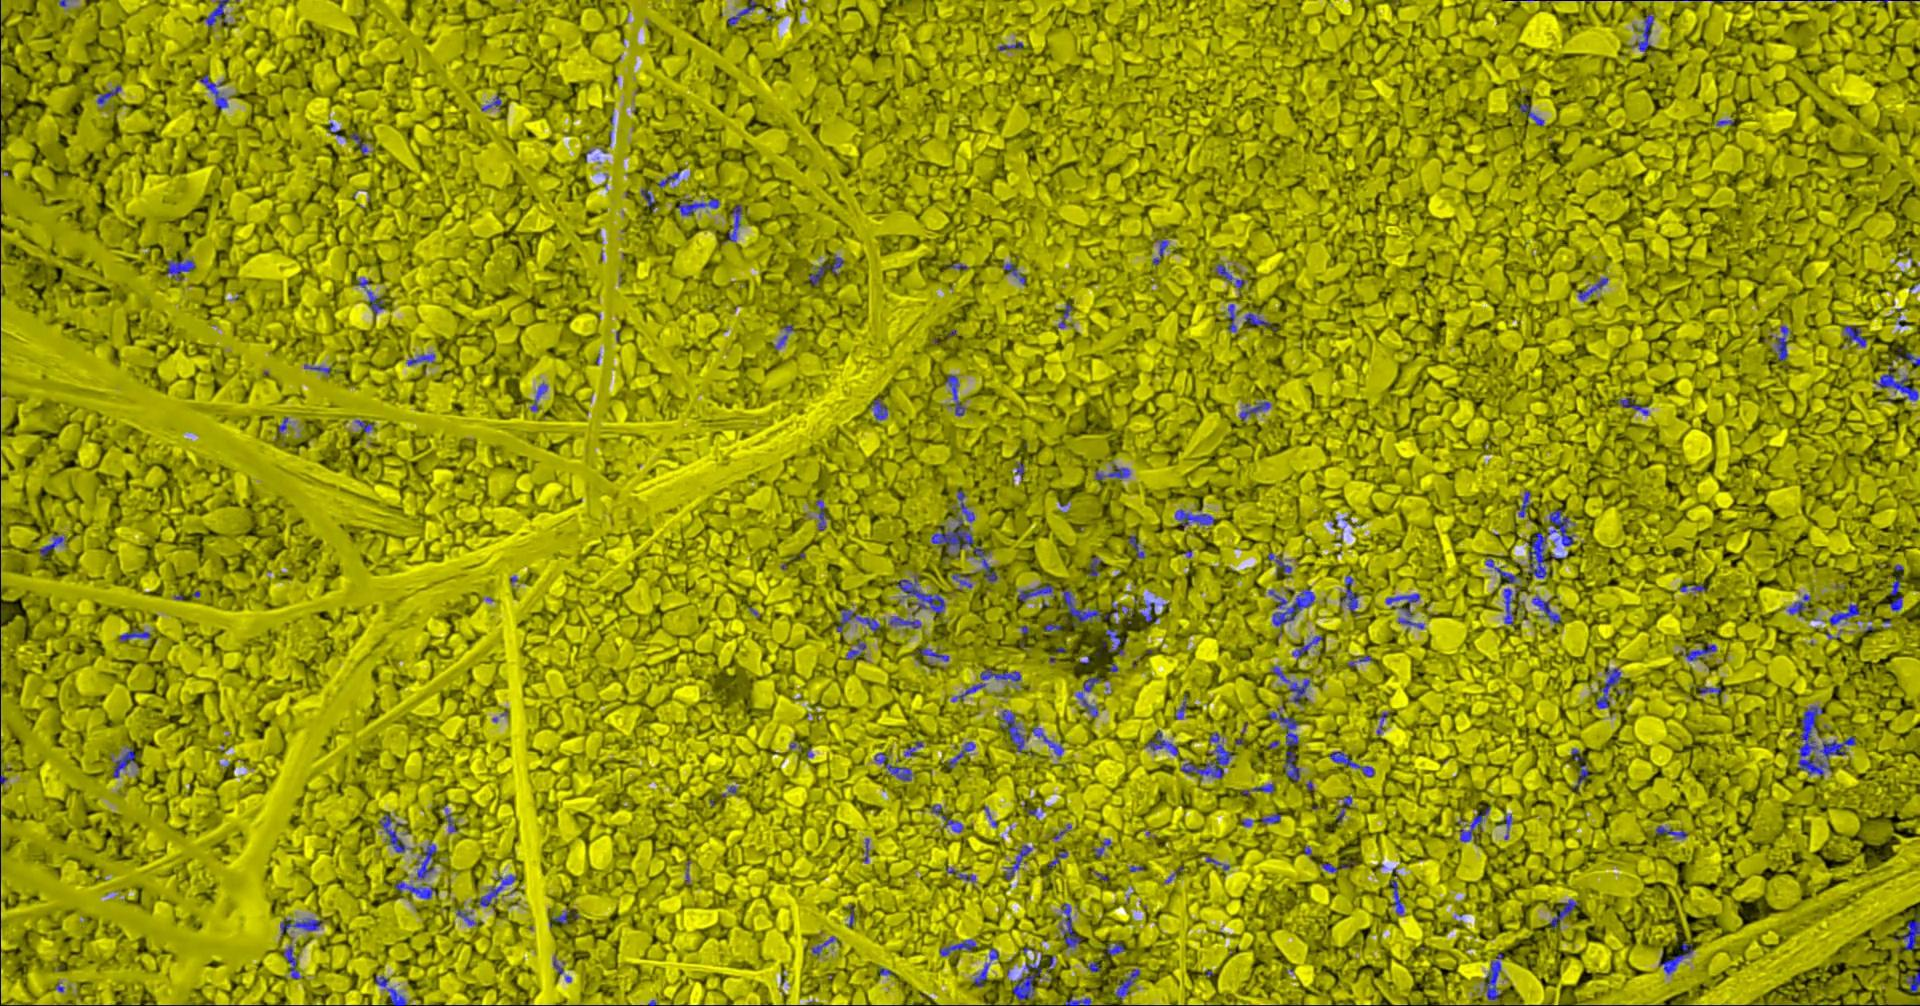ant: (933, 490, 977, 551), (1182, 730, 1236, 779), (1269, 705, 1302, 781), (952, 668, 1022, 701), (1801, 706, 1831, 776), (898, 577, 946, 617), (1063, 588, 1111, 625), (1270, 588, 1316, 626), (1876, 362, 1920, 400), (1272, 666, 1310, 702), (1387, 593, 1425, 627), (1330, 751, 1377, 776), (480, 874, 517, 906), (999, 709, 1026, 752), (1013, 960, 1043, 998), (1660, 942, 1695, 973), (1460, 807, 1491, 841), (876, 752, 913, 780), (1062, 903, 1084, 948), (381, 813, 406, 852), (838, 608, 881, 631), (1006, 843, 1032, 880), (1597, 667, 1622, 708), (1078, 677, 1102, 718), (1528, 532, 1549, 577), (201, 74, 229, 108), (810, 257, 844, 285), (1484, 951, 1505, 998), (1895, 913, 1920, 950), (1487, 558, 1519, 587), (1032, 727, 1065, 754), (1549, 509, 1575, 545), (975, 545, 999, 580), (1821, 735, 1857, 760), (1147, 729, 1180, 754), (1830, 600, 1862, 625), (1550, 899, 1578, 927), (1533, 596, 1562, 622), (1634, 13, 1655, 51), (947, 375, 966, 415), (113, 747, 138, 777), (950, 741, 977, 768), (729, 0, 758, 25), (679, 197, 720, 215), (1176, 509, 1217, 527), (1341, 575, 1361, 611), (396, 880, 437, 898), (1117, 969, 1142, 998), (1578, 277, 1609, 300), (1293, 635, 1324, 657), (206, 0, 231, 27), (418, 843, 437, 878), (282, 918, 324, 934), (1505, 586, 1521, 624), (284, 945, 303, 978), (168, 259, 197, 279), (1018, 584, 1054, 601), (1684, 643, 1717, 661), (941, 939, 977, 955), (41, 531, 63, 556), (1106, 627, 1128, 654), (1097, 464, 1131, 480), (1241, 401, 1272, 419), (1521, 103, 1545, 126), (1390, 875, 1404, 915), (1619, 398, 1650, 415), (1004, 263, 1029, 285), (1269, 551, 1293, 573), (729, 205, 743, 241), (1844, 325, 1867, 347), (1789, 594, 1811, 616), (532, 382, 549, 410), (119, 627, 152, 641), (917, 647, 950, 661), (776, 324, 795, 348), (947, 866, 977, 882), (1573, 763, 1590, 790), (1891, 577, 1903, 611), (98, 85, 122, 103), (813, 936, 837, 954), (817, 499, 830, 530), (1778, 326, 1790, 359), (870, 398, 889, 419), (350, 132, 368, 155), (1657, 826, 1689, 838), (1338, 795, 1352, 823), (1154, 239, 1170, 264), (847, 640, 867, 659), (551, 907, 570, 927), (368, 290, 385, 312), (1897, 348, 1920, 365), (1129, 535, 1145, 558), (1244, 312, 1271, 326), (1142, 602, 1159, 622), (389, 987, 409, 1005), (659, 170, 682, 185), (891, 616, 922, 627), (1105, 941, 1128, 956), (975, 963, 990, 986), (1095, 838, 1112, 857), (1050, 850, 1069, 868), (952, 573, 973, 589), (943, 815, 964, 832), (1907, 967, 1920, 992), (408, 353, 436, 365), (457, 909, 477, 925), (1060, 302, 1073, 326), (1176, 694, 1189, 718), (1520, 490, 1531, 517), (1217, 263, 1234, 279), (1229, 304, 1239, 332), (905, 741, 924, 754), (1262, 812, 1283, 824), (1090, 556, 1102, 575), (643, 189, 657, 206), (999, 41, 1025, 50), (1697, 685, 1722, 694), (1255, 782, 1276, 793), (357, 420, 375, 432), (1065, 997, 1092, 1005), (1046, 622, 1063, 631), (377, 976, 390, 986)
